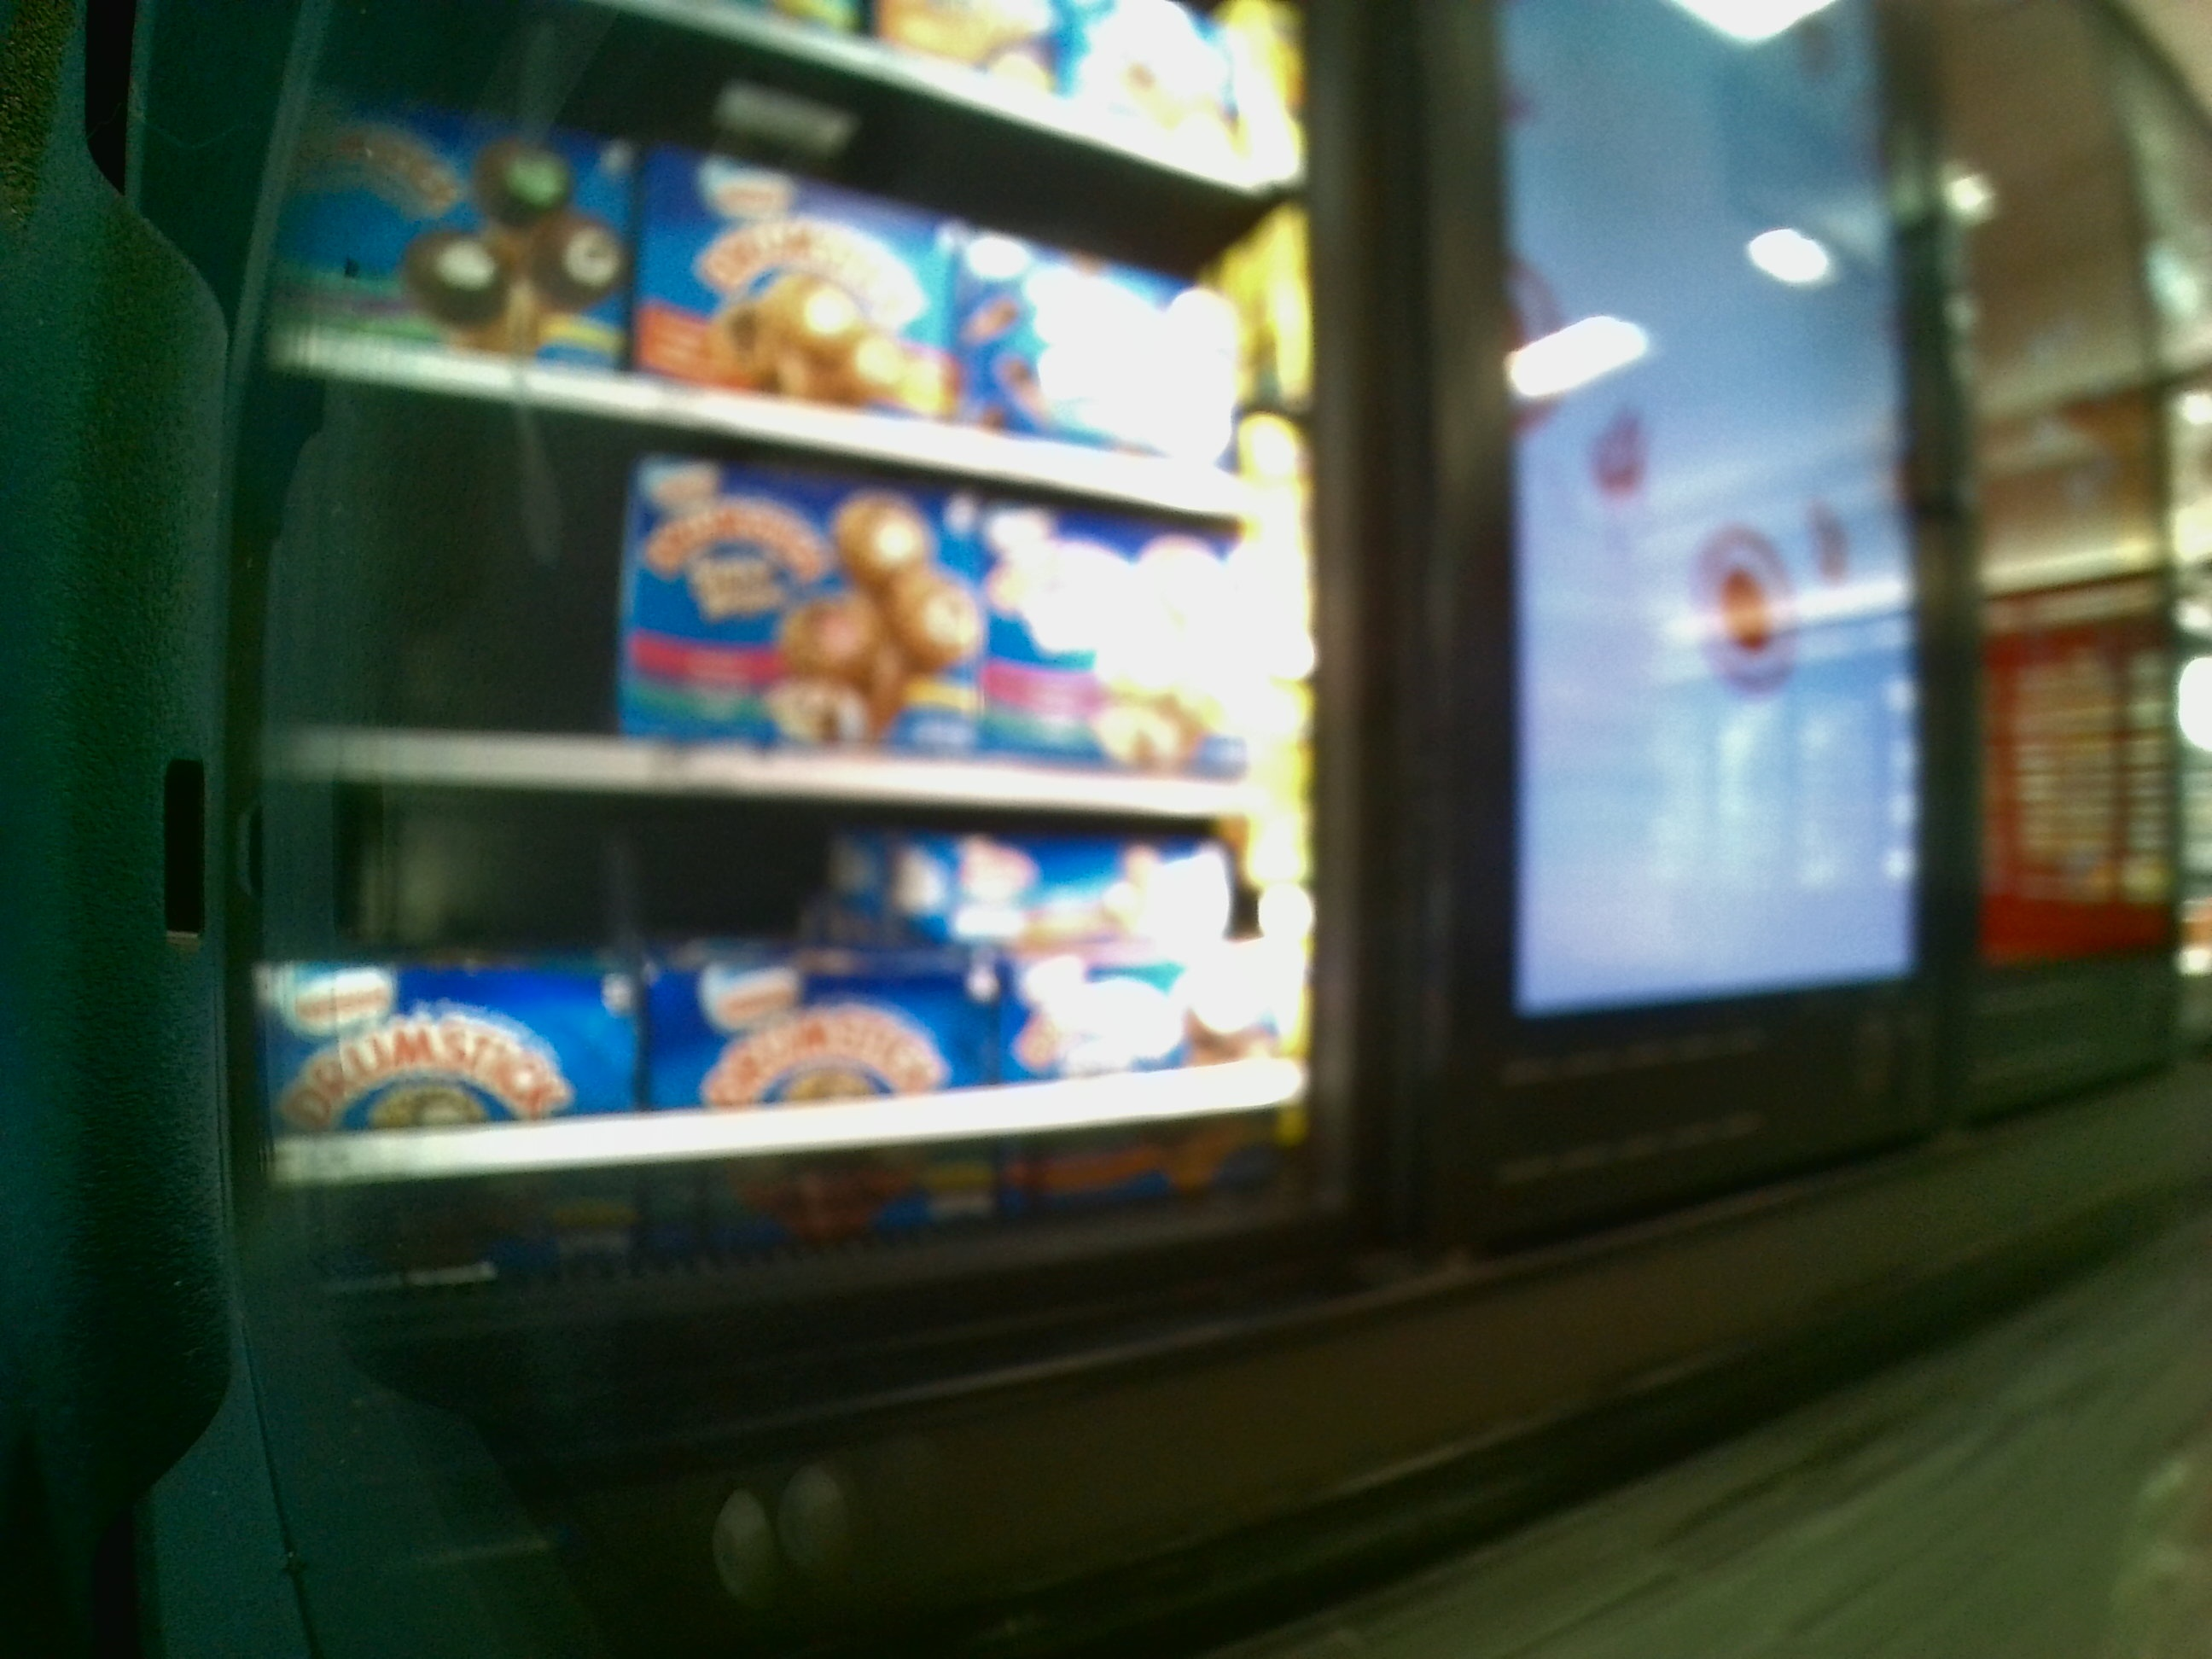shelf: (265, 796, 1301, 1222), (272, 427, 1299, 788)
